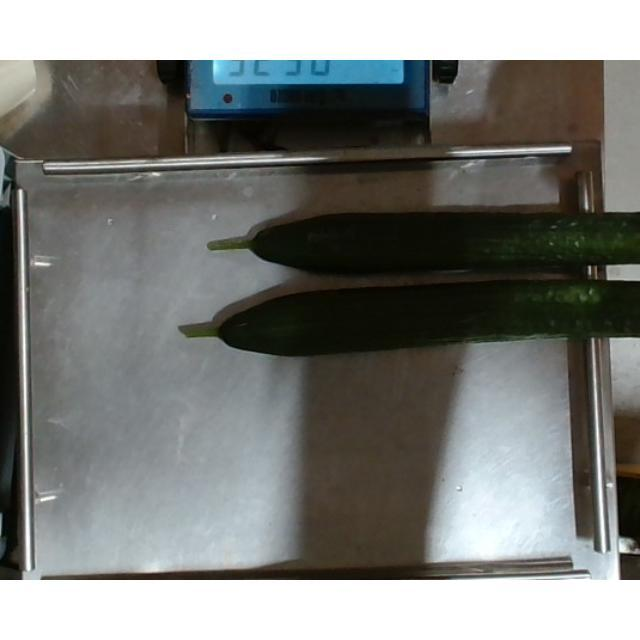cucumber: (175, 286, 640, 362), (204, 206, 640, 278)
